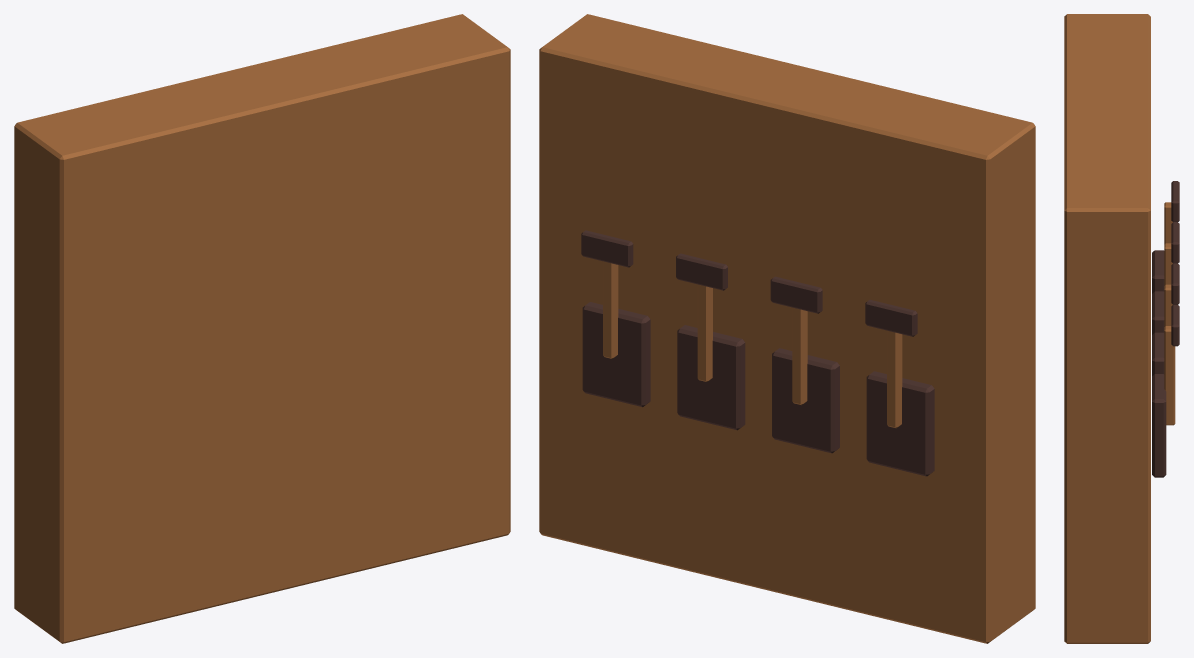
Rendered from leviers_perimetre.glb.
The picture shows the model from 3 angles, left to right: view 1: azimuth 30°, elevation 25°; view 2: azimuth 150°, elevation 25°; view 3: azimuth 270°, elevation 25°; orthographic projection. The views are drawn at different scales.
Parts seen in each view (by area): view 1: leviers_perimetre; view 2: leviers_perimetre; view 3: leviers_perimetre.
Part boxes in pixels (box(x1,y1,x2,y2)): leviers_perimetre: box(14, 14, 510, 643); leviers_perimetre: box(539, 14, 1035, 643); leviers_perimetre: box(1064, 14, 1179, 643).
Size of the model in its own units: 1.45 by 1.5 by 0.36.
Materials: 1 (1 with a texture image).
